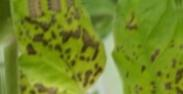Tomato leaf bacterial spot: (11, 0, 118, 94), (103, 0, 183, 92)
